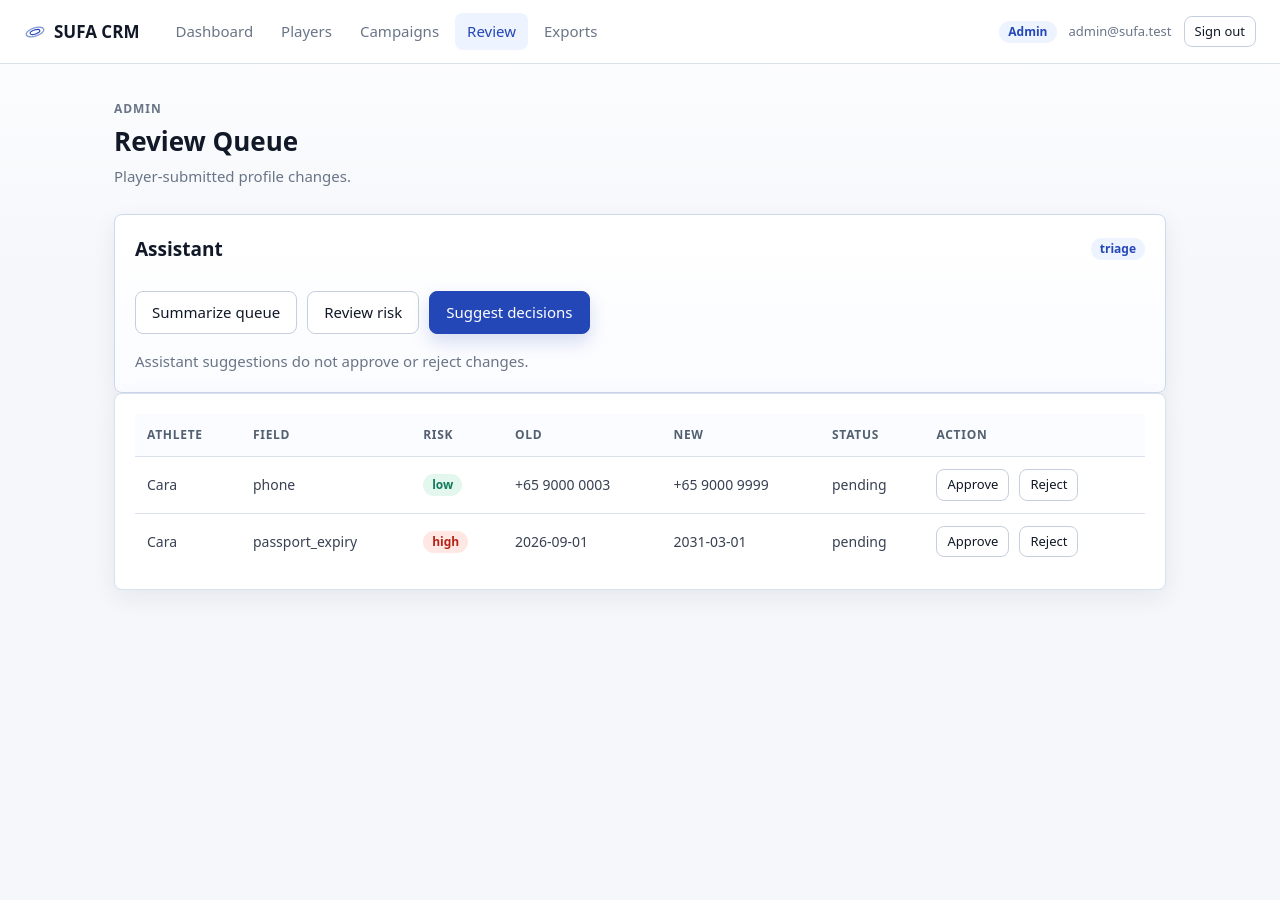
Test case: App routing › lets an admin triage review queue risk without auto-approving changes
This screenshot has width=1280, height=900.
Check: the heading "Review Queue" is shown, box [114, 123, 298, 159]
Click the button "Summarize queue": (216, 312) [135, 291, 297, 334]
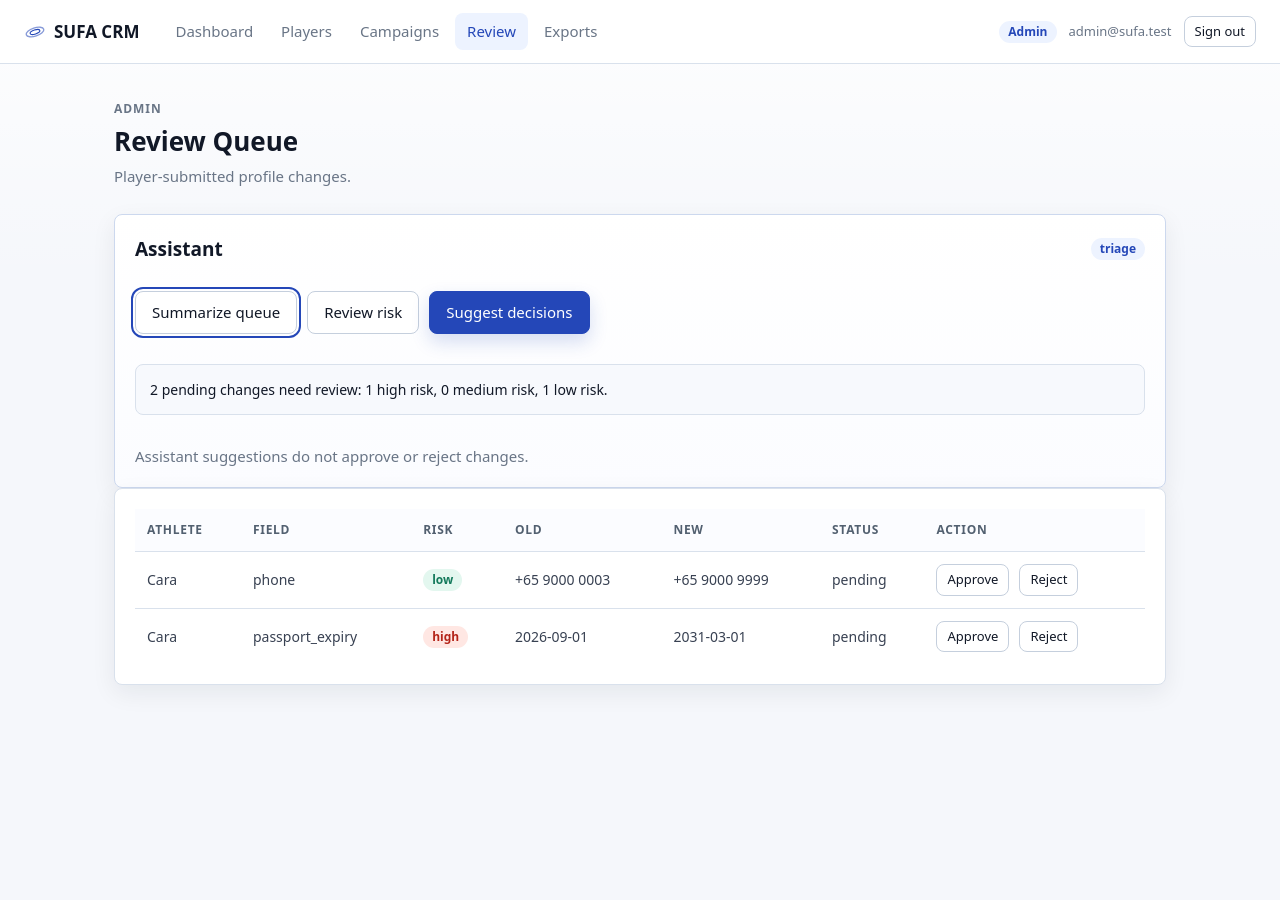
Check: the text "1 high risk" is shown, box [150, 380, 608, 398]
Click the button "Review risk": (363, 312) [307, 291, 419, 334]
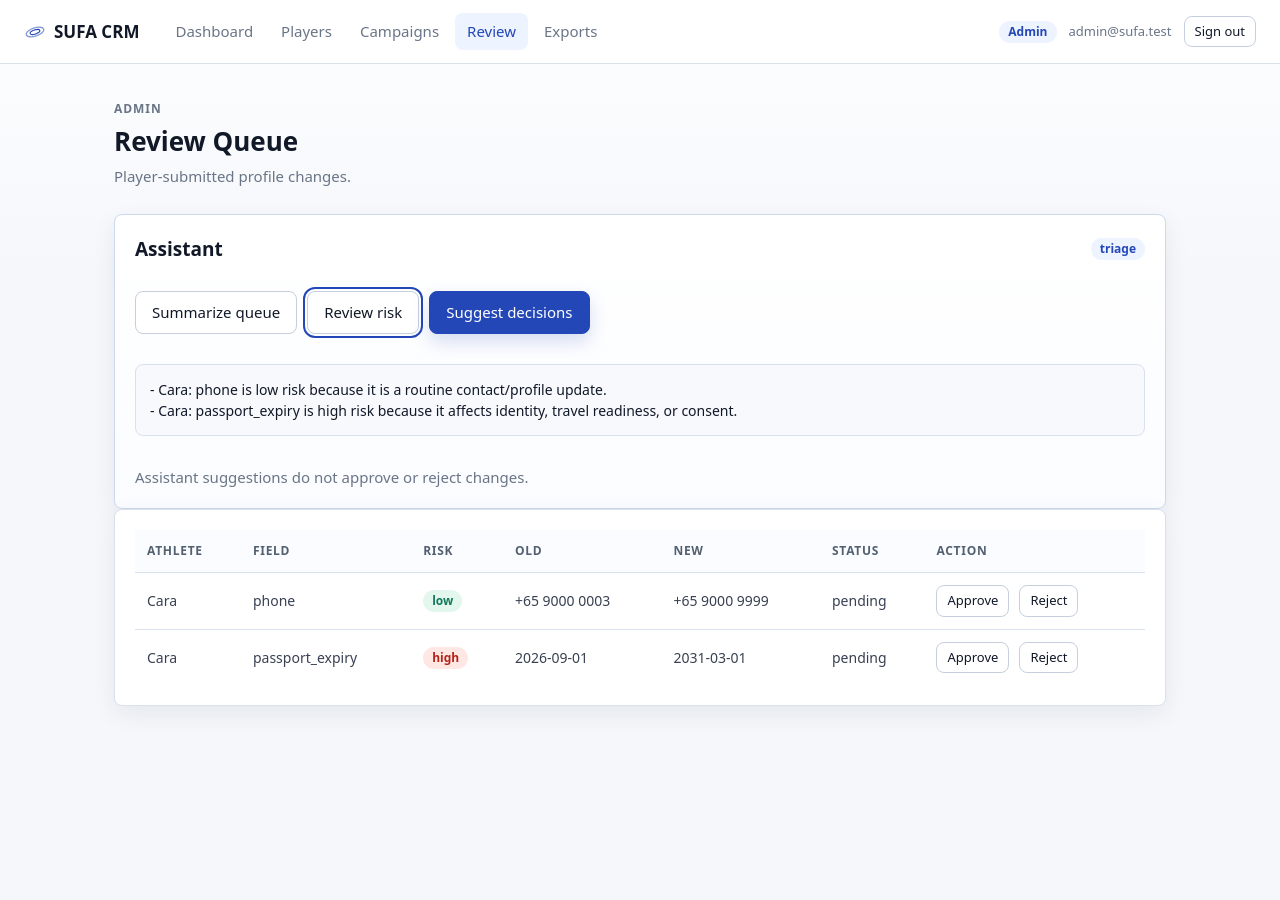
Check: the text "phone is low risk" is shown, box [150, 380, 737, 420]
Click the button "Suggest decisions": (509, 312) [429, 291, 590, 334]
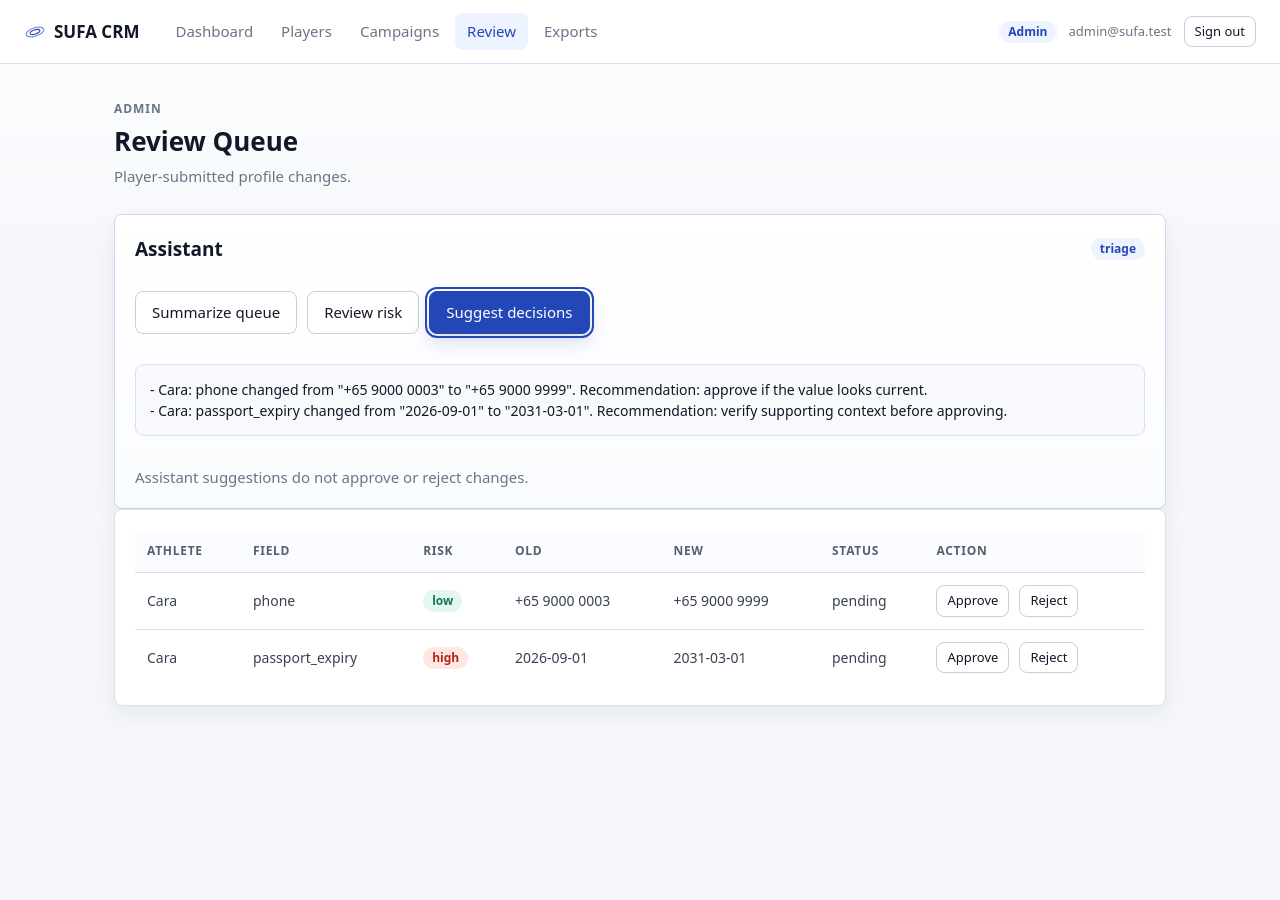
Check: the text "approve if the value looks current" is shown, box [150, 380, 1007, 420]
